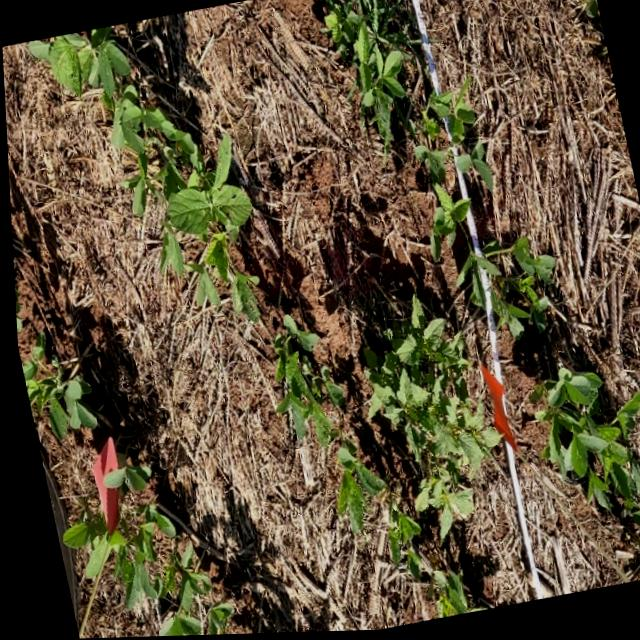caruru_weed: (362, 300, 495, 538)
grassy_weed: (317, 0, 420, 63)
soy_plant: (30, 27, 256, 323), (269, 318, 382, 536), (528, 371, 640, 581), (57, 504, 224, 638), (404, 84, 490, 261), (382, 503, 479, 621), (459, 241, 552, 340), (18, 337, 93, 437), (354, 25, 404, 150), (100, 462, 145, 502)
